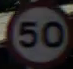Speed limit: (4, 3, 67, 60)
